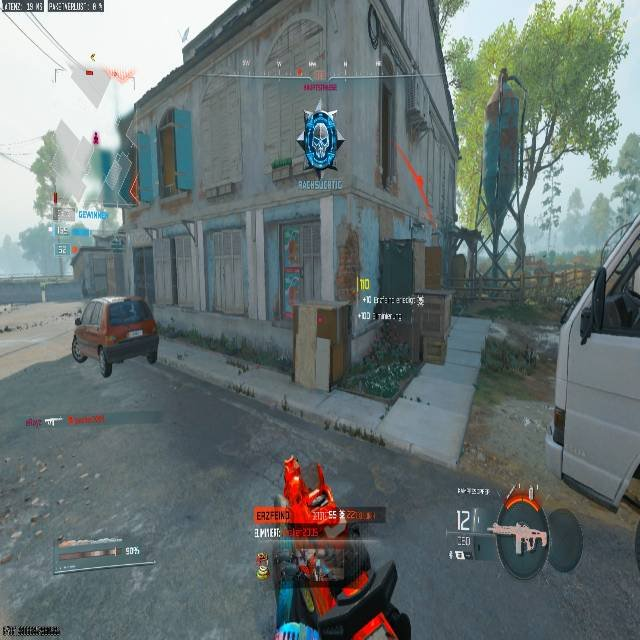player: (254, 456, 422, 639), (298, 103, 344, 177)
